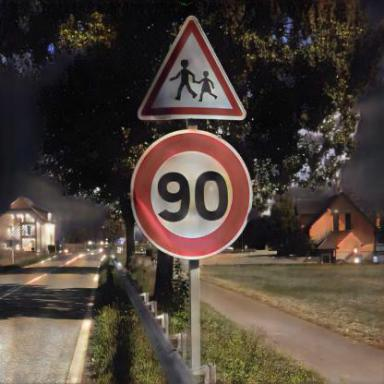Speed_limit_90: (132, 138, 250, 253)
